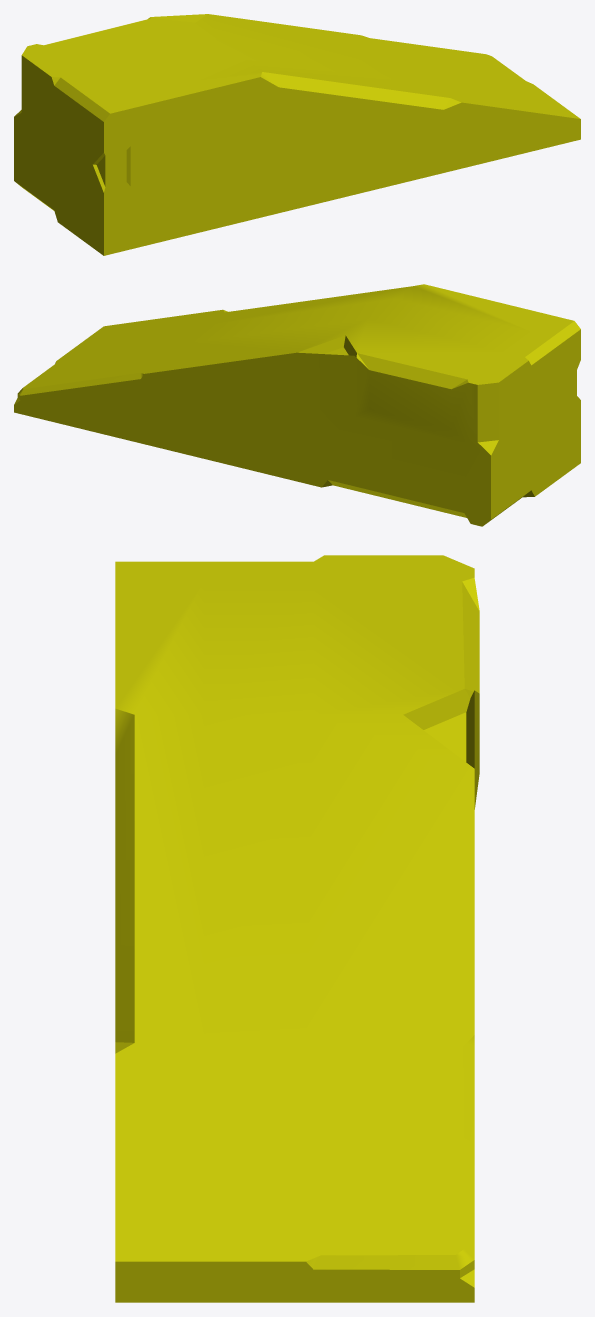
The model's file is Jungle_rock.fbx.
3 renders of one model, top to bottom at view 1: azimuth 30°, elevation 25°; view 2: azimuth 150°, elevation 25°; view 3: azimuth 270°, elevation 25°, orthographic. The views are drawn at different scales.
Visible parts, largest first — view 1: MESH_Jungle_rock; view 2: MESH_Jungle_rock; view 3: MESH_Jungle_rock.
Boxes of the visible parts, x1,y1,x2,y2 form: MESH_Jungle_rock: (14, 14, 580, 255); MESH_Jungle_rock: (14, 284, 580, 526); MESH_Jungle_rock: (115, 555, 479, 1302).
Size of the model in its own units: 19.67 by 5.54 by 6.51.
